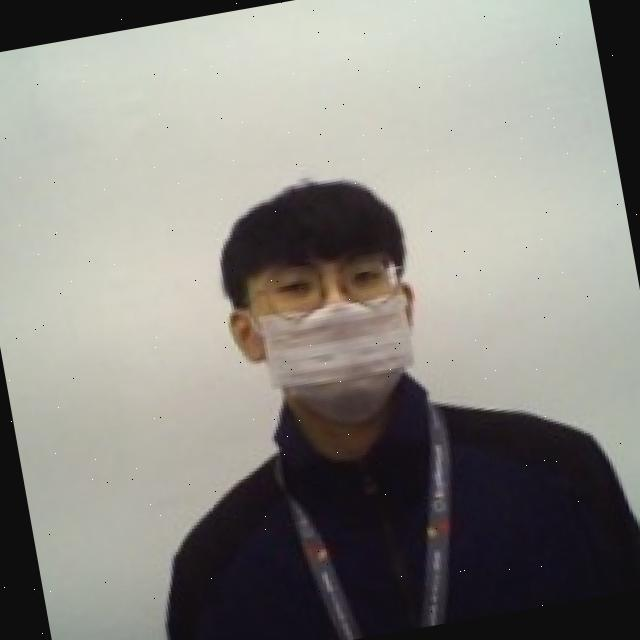mask: (230, 270, 435, 441)
no_gloves: (200, 154, 416, 310)
